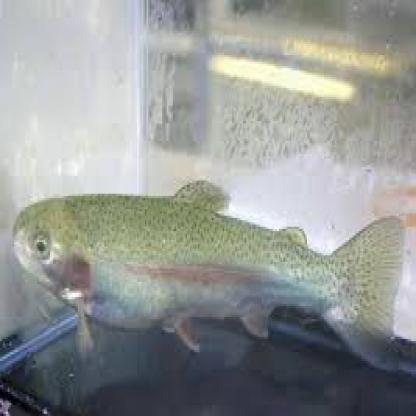fish: (9, 176, 403, 360)
